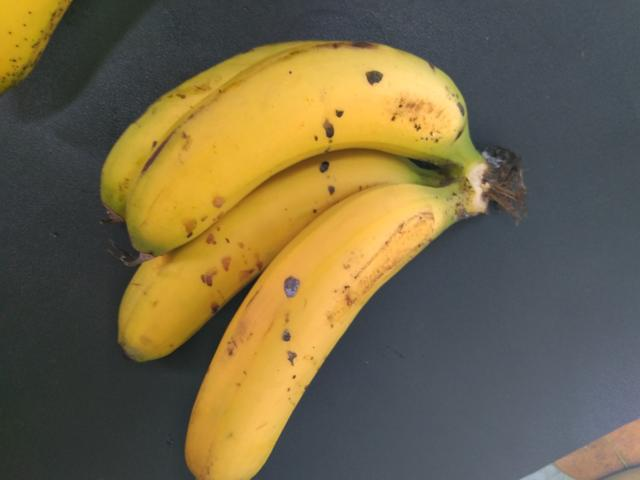ripe: (192, 183, 452, 479), (116, 34, 501, 205), (97, 218, 262, 348)
